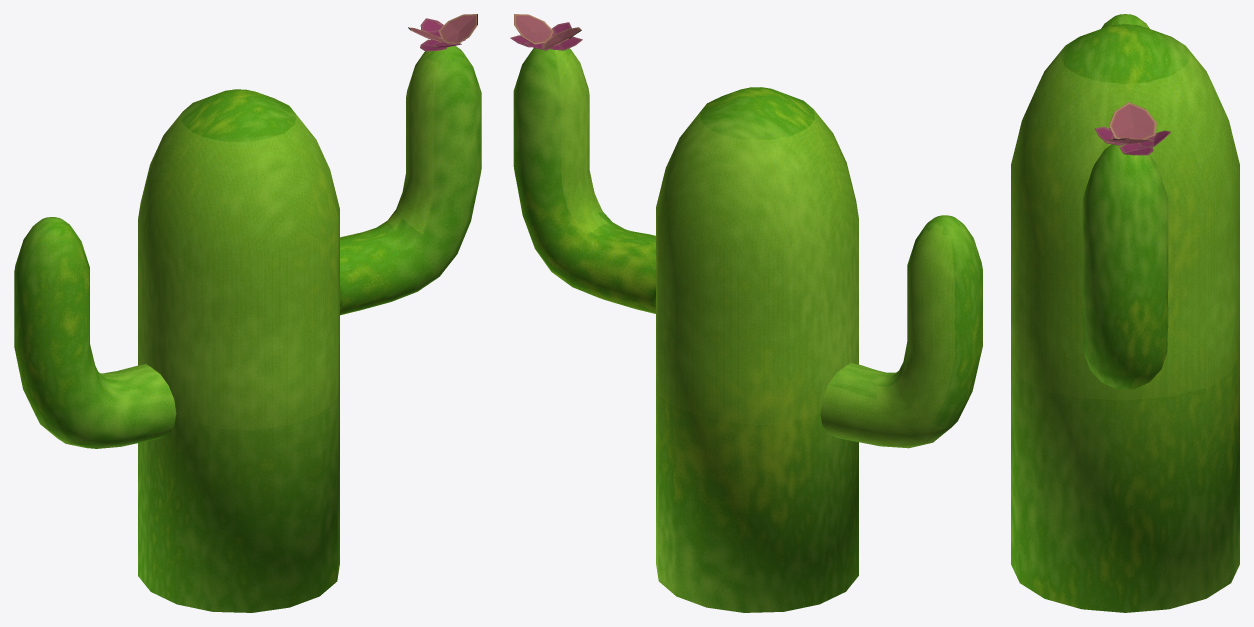
Rendered from Cacto.fbx.
3 views of the same model, side by side, from view 1: azimuth 30°, elevation 25°; view 2: azimuth 150°, elevation 25°; view 3: azimuth 270°, elevation 25° (orthographic). The views are drawn at different scales.
Visible parts, largest first — view 1: cacto, flower; view 2: cacto, flower; view 3: cacto, flower.
Part boxes in pixels (box(x1,y1,x2,y2)): cacto: box(14, 45, 481, 612); flower: box(408, 14, 477, 51); cacto: box(513, 48, 982, 612); flower: box(510, 14, 582, 50); cacto: box(1011, 14, 1239, 612); flower: box(1094, 102, 1170, 155).
Size of the model in its own units: 240 by 247 by 91.86.
